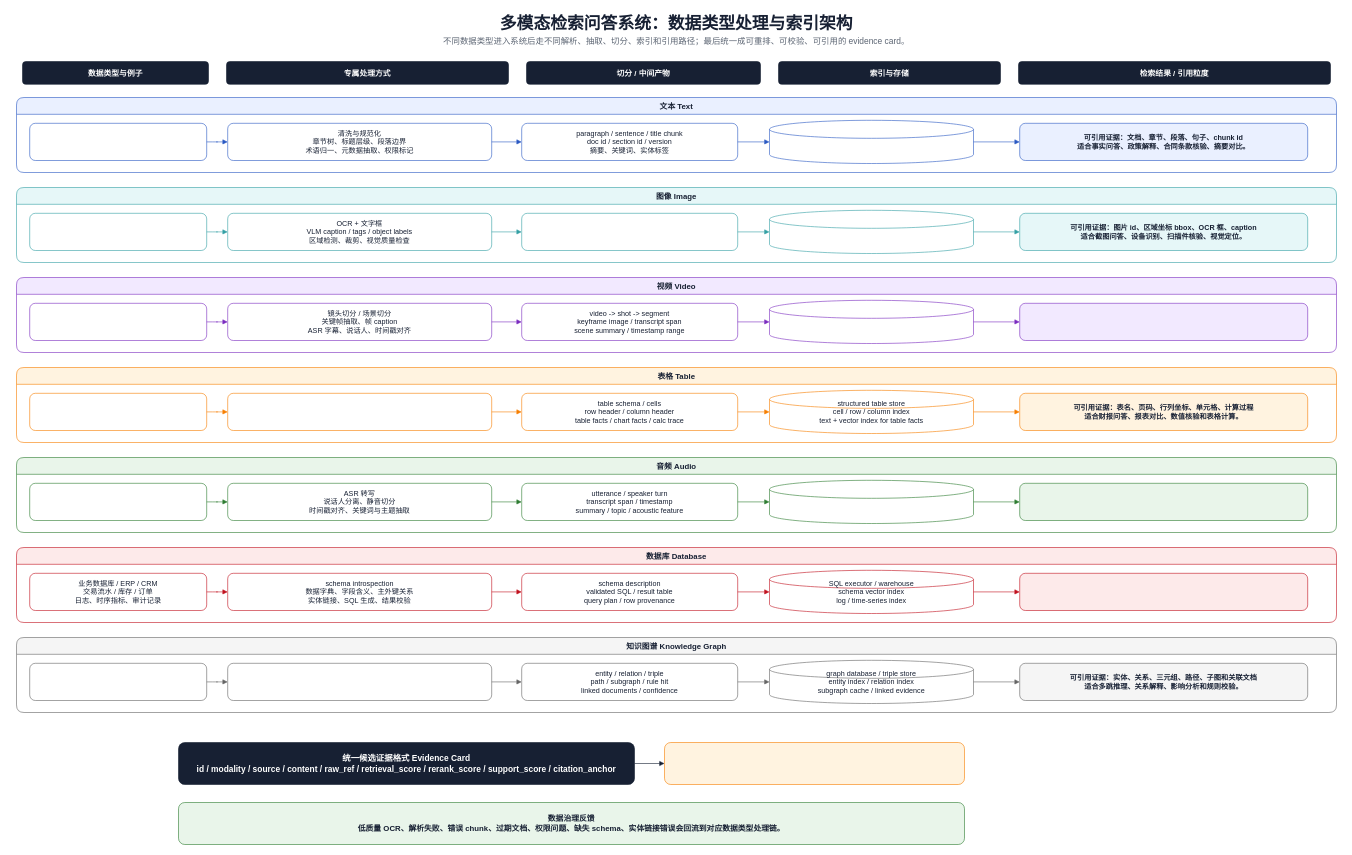
Image size: 1352x855. Some labels were removed from this diagram. The centre of each missing label's shape, as x and y in pixels:
"ASR text index audio segment vector index speaker / timestamp metadata" goes at point 871,502.
"BM25 / keyword index dense vector / sparse vector metadata / ACL index" goes at point 871,142.
"global image embedding region / patch embedding OCR text + bbox / caption / tags" goes at point 629,231.
"segment vector index keyframe visual index ASR text index / media object store" goes at point 871,322.
"visual vector index OCR text index region bbox / object store" goes at point 871,232.
"会议录音 / 客服录音 访谈 / 播客 / 语音留言 电话录音、现场录音" goes at point 118,501.
"制度 / 合同 / 手册 / SOP 网页 / Markdown / PDF 文本 知识库文章 / FAQ / 邮件" goes at point 118,141.
"可引用证据：SQL、结果表、行记录、字段、时间范围 适合指标查询、经营分析、审计追溯和日志排障。" goes at point 1163,591.
"可引用证据：视频 id、起止时间、关键帧、字幕片段 适合长视频定位、会议追溯、流程教学和事件核查。" goes at point 1163,321.
"可引用证据：音频 id、说话人、起止时间、原文转写 适合会议纪要、客服质检、访谈检索和时间定位。" goes at point 1163,501.
"培训视频 / 会议录像 监控巡检 / 产品演示 操作录屏 / 访谈视频" goes at point 118,321.
"实体关系 / 组织架构 产品依赖 / 事件图 / 规则图 人员、设备、地点、流程关系" goes at point 118,681.
"实体抽取与链接 关系归一、路径扩展、子图召回 约束检查、图规则推理、多跳路径搜索" goes at point 359,681.
"截图 / 照片 / 扫描件 流程图 / 架构图 / 图表图片 票据、设备照片、UI 截图" goes at point 118,231.
"统一融合与重排 先按模态独立召回，再跨模态重排；避免把不同模态过早压成一个不可解释分数。" goes at point 814,763.
"表格检测与结构恢复 表头、行列、合并单元格、单位归一 数值类型识别、公式/计算关系抽取" goes at point 359,411.
"财报 / 业务报表 / KPI 表 Excel / CSV / PDF 表格 数据库导出、审计表、清单表" goes at point 118,411.
